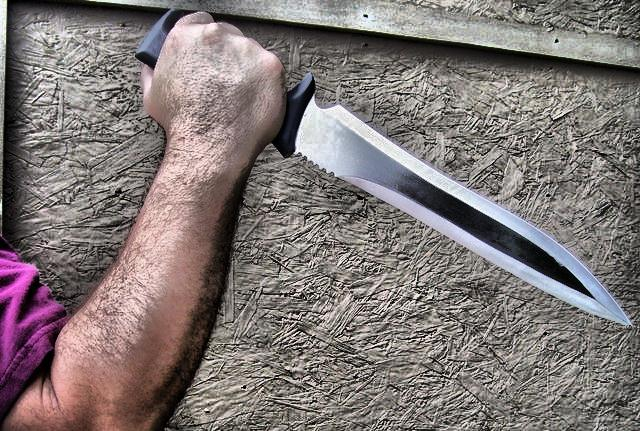knife: (130, 5, 638, 336)
